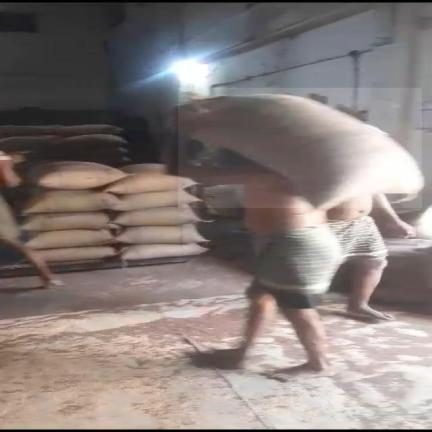Zone-Counting: (176, 94, 424, 370)
